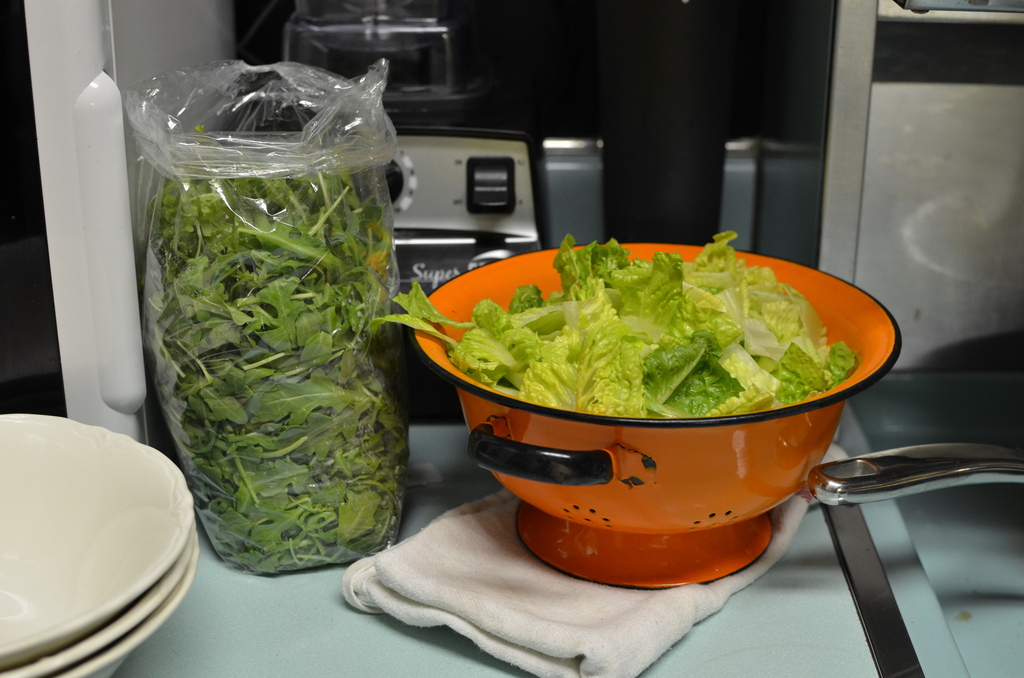chopped lettuce: (162, 172, 381, 558), (470, 264, 815, 403)
